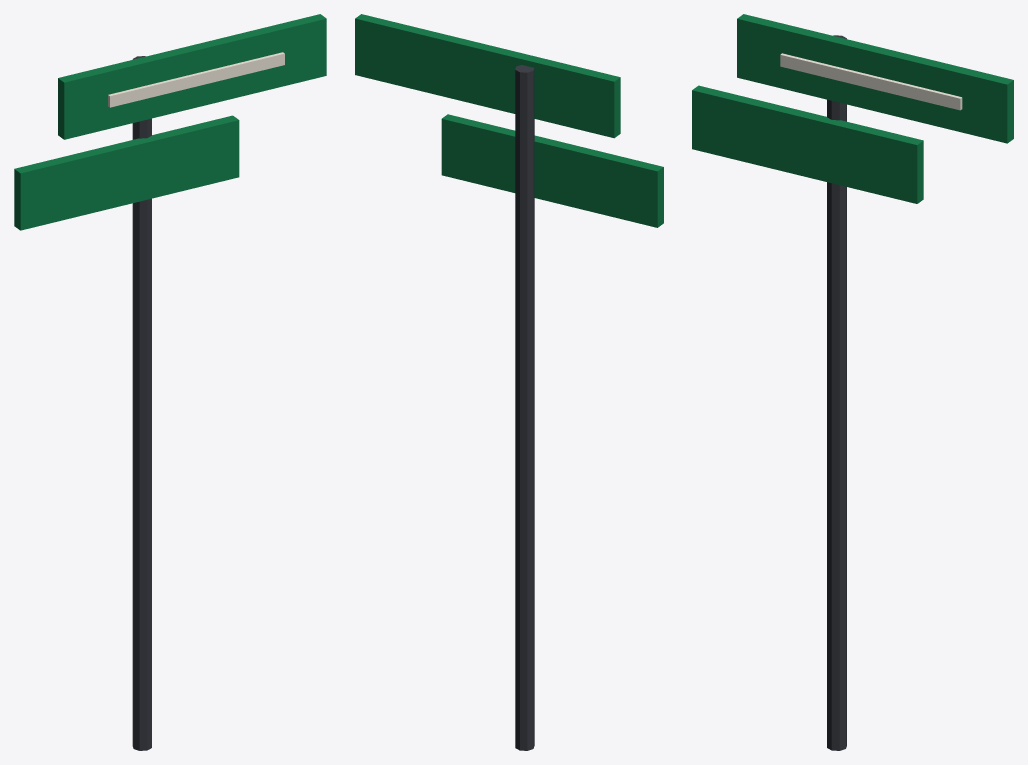
Rendered from street_name_sign.glb.
3 views of the same model, side by side, from view 1: azimuth 30°, elevation 25°; view 2: azimuth 150°, elevation 25°; view 3: azimuth 330°, elevation 25° (orthographic). The views are drawn at different scales.
Visible parts, largest first — view 1: street_name_sign; view 2: street_name_sign; view 3: street_name_sign.
Boxes of the visible parts, x1=… form: street_name_sign: x1=14, y1=14, x2=326, y2=750; street_name_sign: x1=355, y1=14, x2=663, y2=750; street_name_sign: x1=692, y1=14, x2=1013, y2=750.
Bounding box in the file's own units: 1.4 × 3.03 × 0.13.
